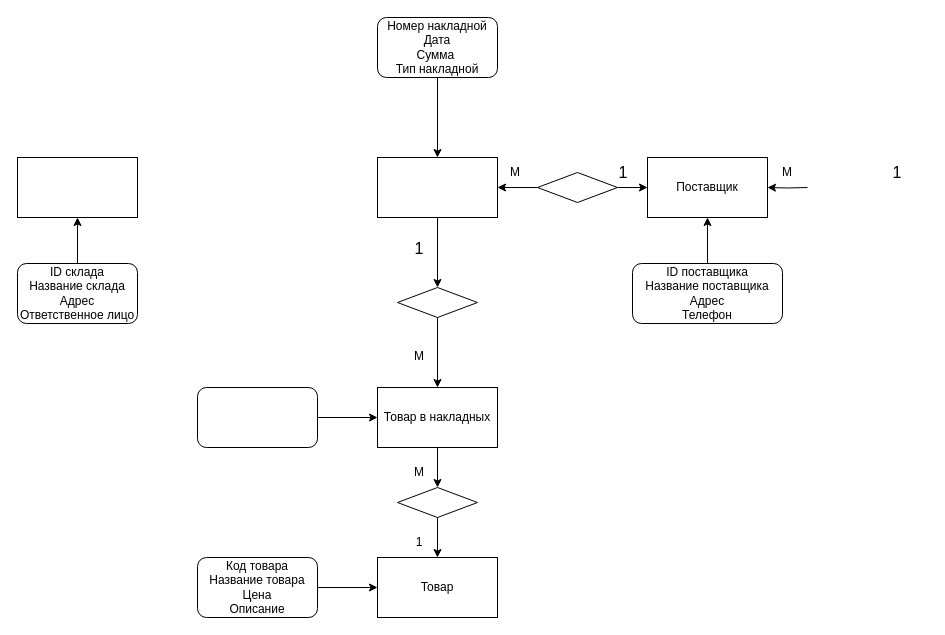
Some shapes in this 945 by 635 pixel diagram are drawn without their labels. The shapes that lost their labels are listed below. From the top down, each one's centre as x and y in pixels, then its label:
(x=77, y=187): Склад
(x=437, y=187): Накладная
(x=257, y=417): Номер накладной Код товара Количество Сумма
